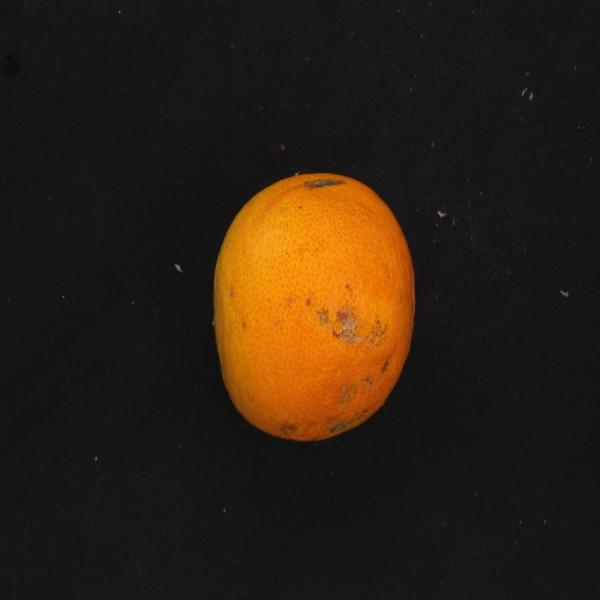Otros defectos: (203, 157, 427, 457)
